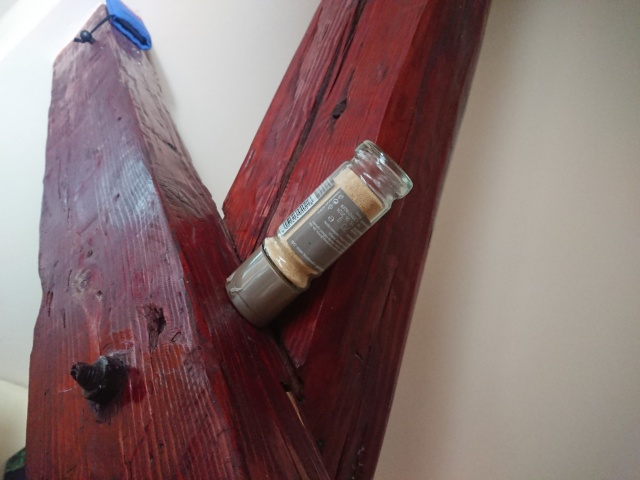Kotanyi Garlic Granules 70g: (221, 137, 416, 330)
